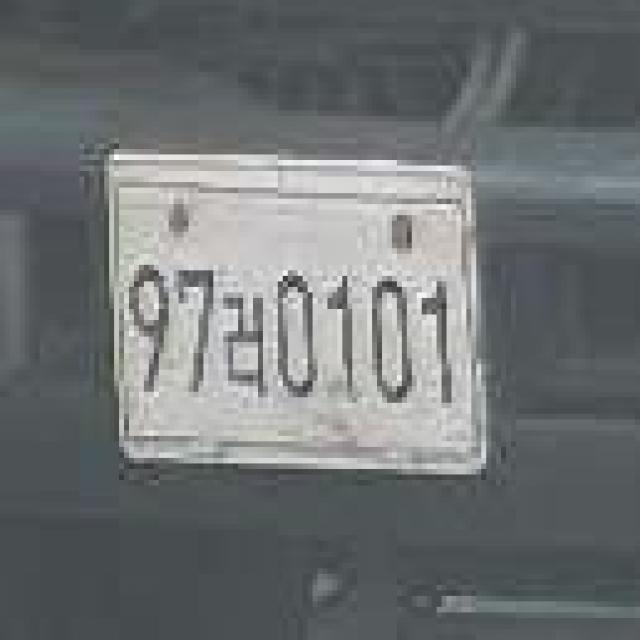0: (270, 265, 318, 402), (368, 274, 418, 404)
1: (420, 278, 469, 409), (323, 270, 363, 402)
7: (174, 265, 222, 398)
9: (124, 258, 174, 398)
leo: (221, 286, 271, 395)
license_plate: (108, 158, 487, 480)
